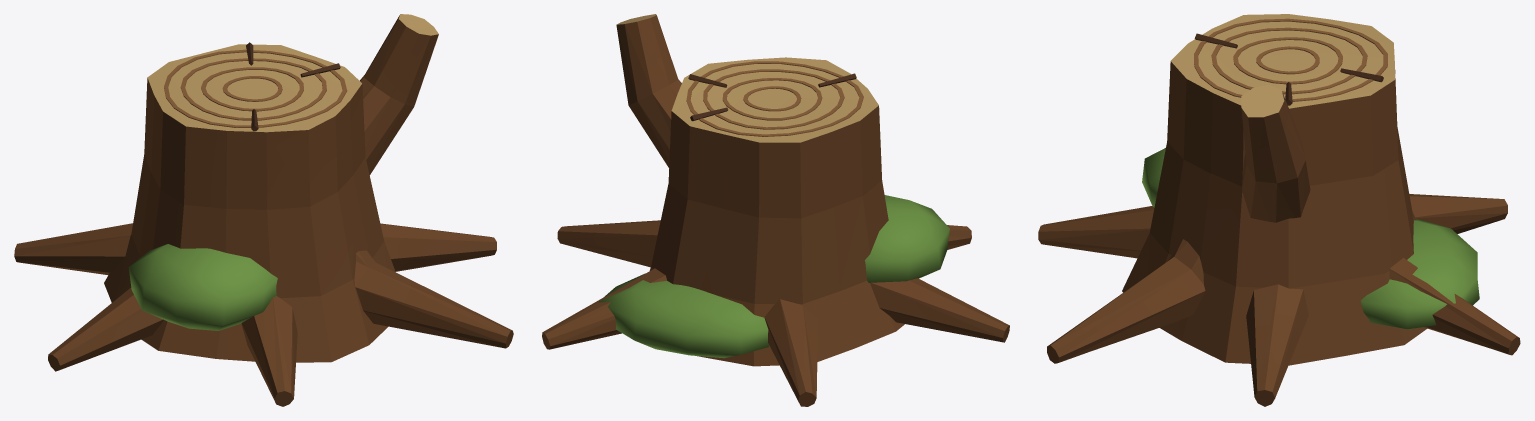
File: Prop_Forest_TreeStump_001.glb
The picture shows the model from 3 angles, left to right: view 1: azimuth 30°, elevation 25°; view 2: azimuth 150°, elevation 25°; view 3: azimuth 270°, elevation 25°; orthographic projection. The views are drawn at different scales.
Parts seen in each view (by area): view 1: FR_TreeStump_Body; view 2: FR_TreeStump_Body; view 3: FR_TreeStump_Body.
Boxes of the visible parts, x1,y1,x2,y2 form: FR_TreeStump_Body: (14, 14, 513, 406); FR_TreeStump_Body: (542, 14, 1009, 406); FR_TreeStump_Body: (1038, 14, 1520, 406).
Bounding box in the file's own units: 1.69 × 0.9517 × 1.46.
